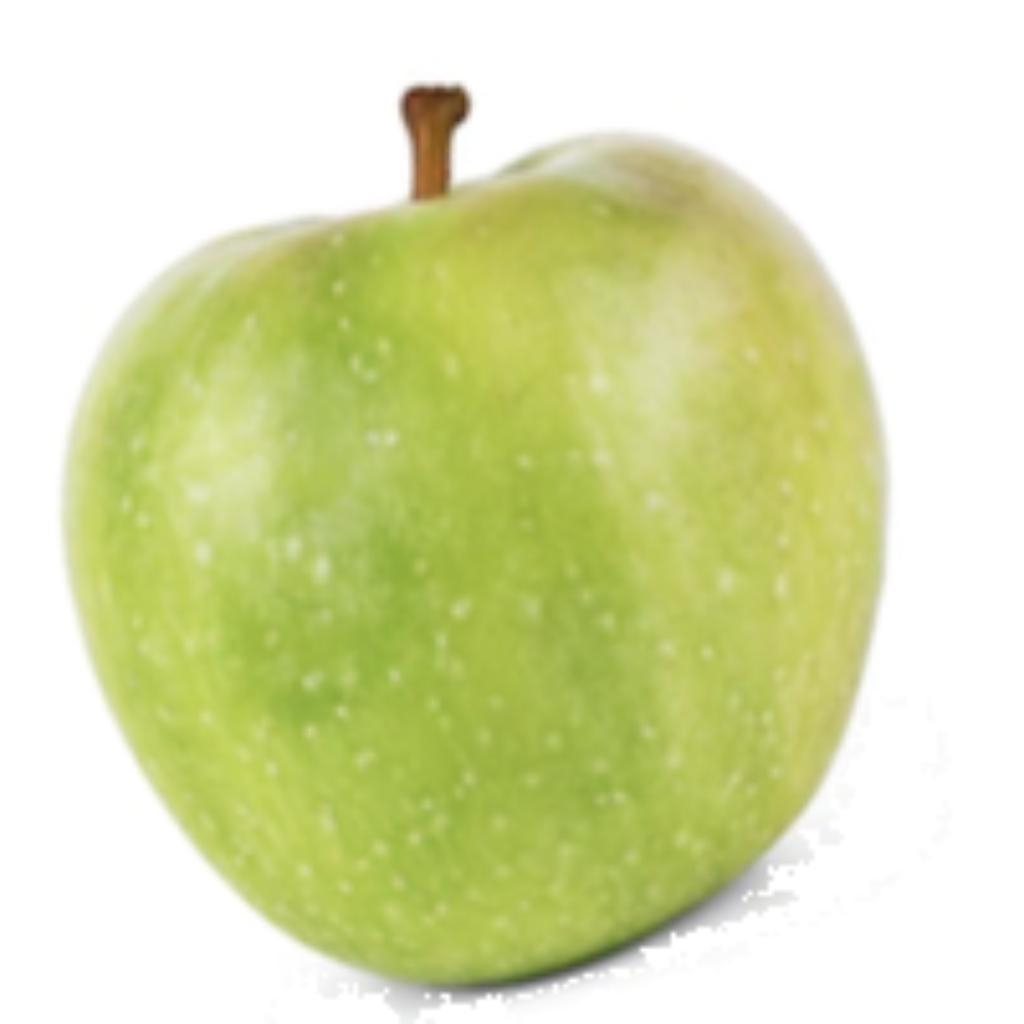apple: (51, 77, 896, 1019)
